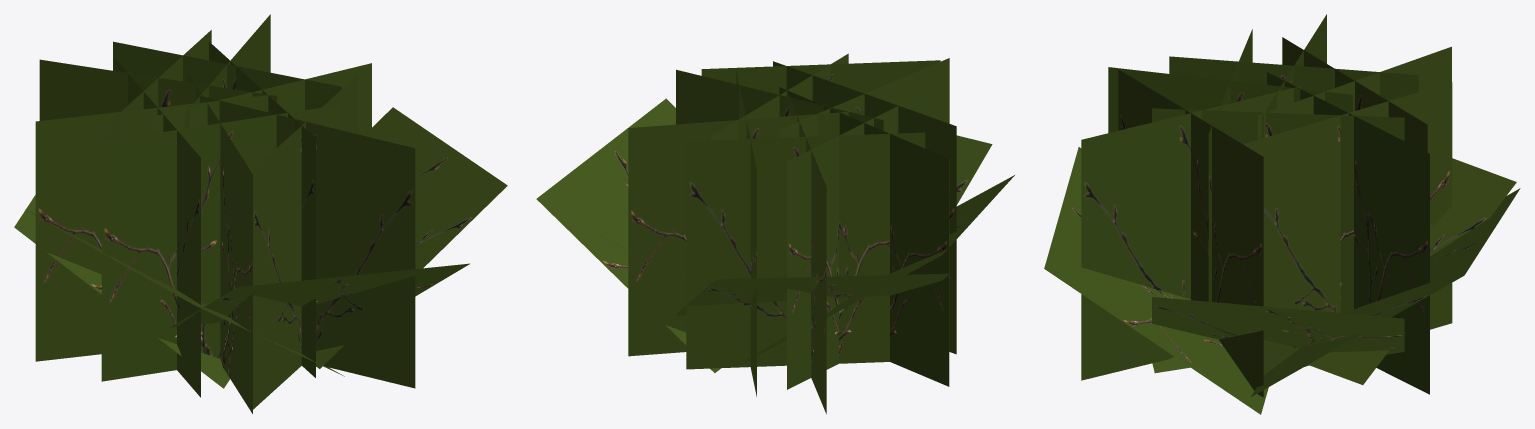
File: bush5.FBX
The picture shows the model from 3 angles, left to right: view 1: azimuth 30°, elevation 25°; view 2: azimuth 150°, elevation 25°; view 3: azimuth 270°, elevation 25°; orthographic projection. The views are drawn at different scales.
Parts seen in each view (by area): view 1: Box001; view 2: Box001; view 3: Box001.
Boxes of the visible parts, box(x1,y1,x2,y2) form: Box001: box(14, 14, 507, 413); Box001: box(536, 53, 1014, 414); Box001: box(1044, 14, 1520, 414).
Size of the model in its own units: 10.08 by 5.87 by 10.19.
